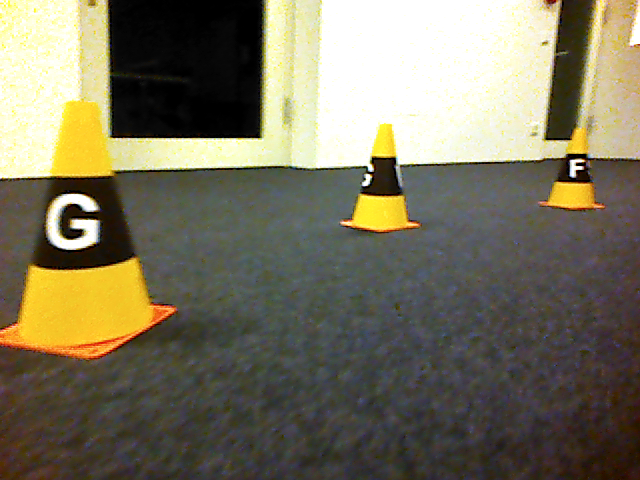yellowcone: (1, 98, 180, 362), (337, 121, 425, 235), (536, 126, 611, 213)
